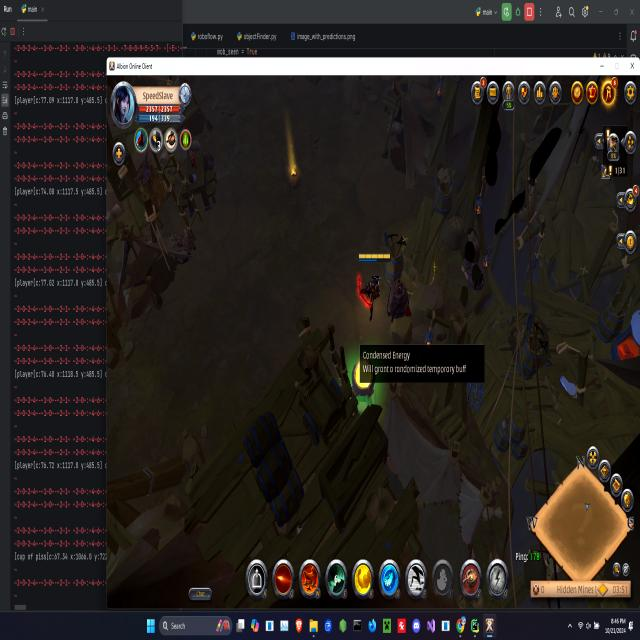fiber: (350, 355, 382, 411)
red: (350, 248, 391, 318)
